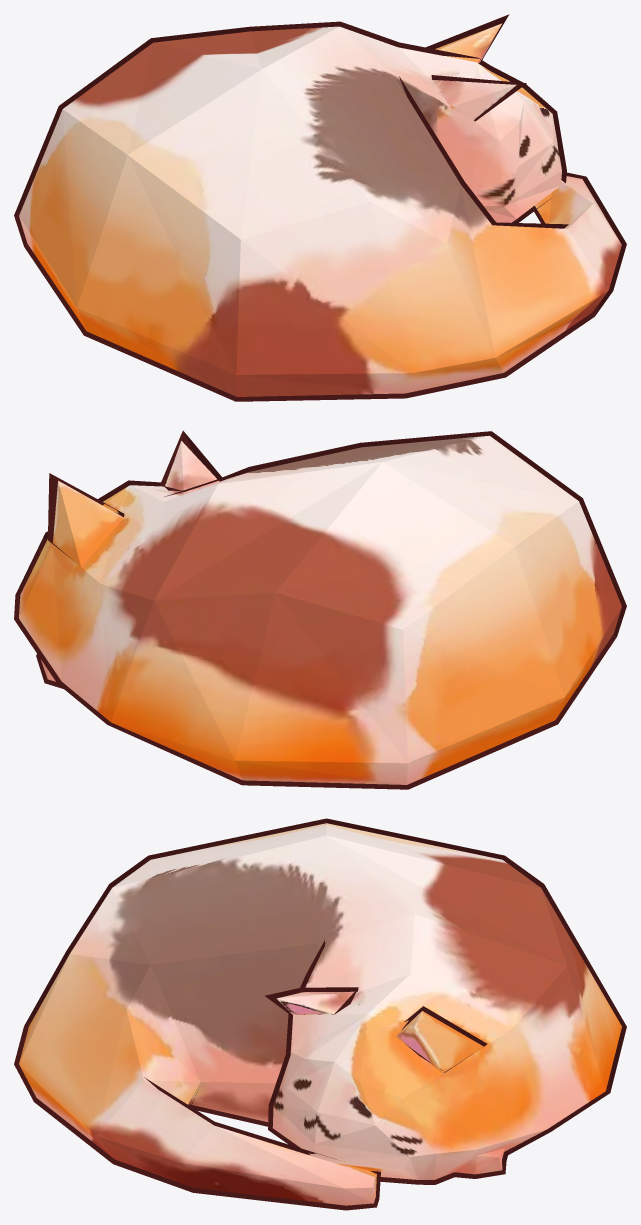
Rendered from cat-sleeping.glb.
The picture shows the model from 3 angles, top to bottom: view 1: azimuth 30°, elevation 25°; view 2: azimuth 150°, elevation 25°; view 3: azimuth 270°, elevation 25°; orthographic projection.
Visible parts, largest first — view 1: Object_2, Object_3; view 2: Object_2, Object_3; view 3: Object_2, Object_3.
Boxes of the visible parts, left/top/right/bottom form: Object_2: left=19, top=23, right=621, bottom=396; Object_3: left=14, top=14, right=626, bottom=401; Object_2: left=19, top=435, right=621, bottom=784; Object_3: left=14, top=430, right=626, bottom=789; Object_2: left=19, top=823, right=621, bottom=1205; Object_3: left=14, top=818, right=626, bottom=1210.
Size of the model in its own units: 1.98 by 0.8278 by 2.04.
2 materials, 1 textured.
